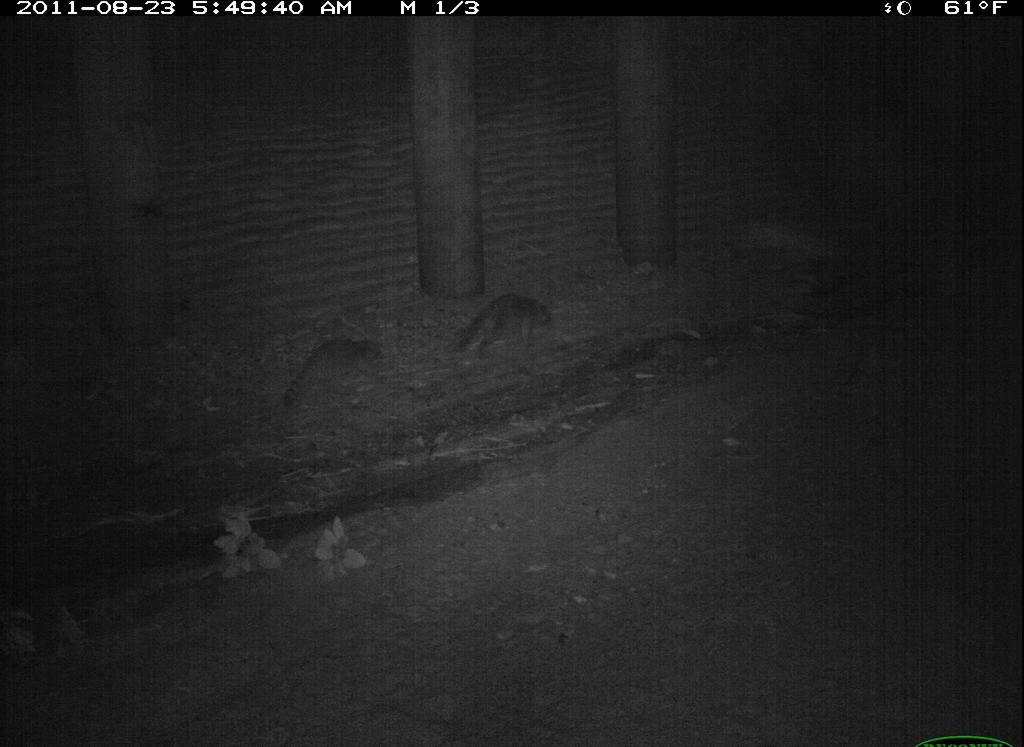raccoon: (546, 659, 780, 747), (903, 574, 1024, 729)
